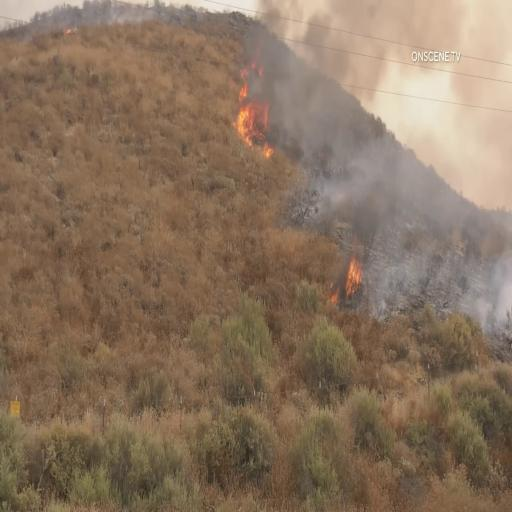fire: (233, 49, 274, 162), (340, 258, 367, 313)
